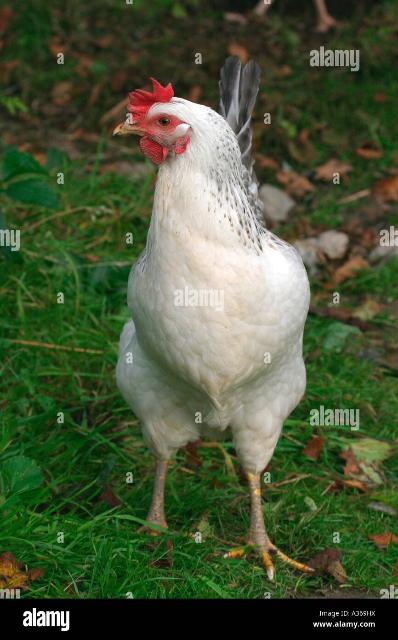Chicken: (111, 62, 318, 578)
